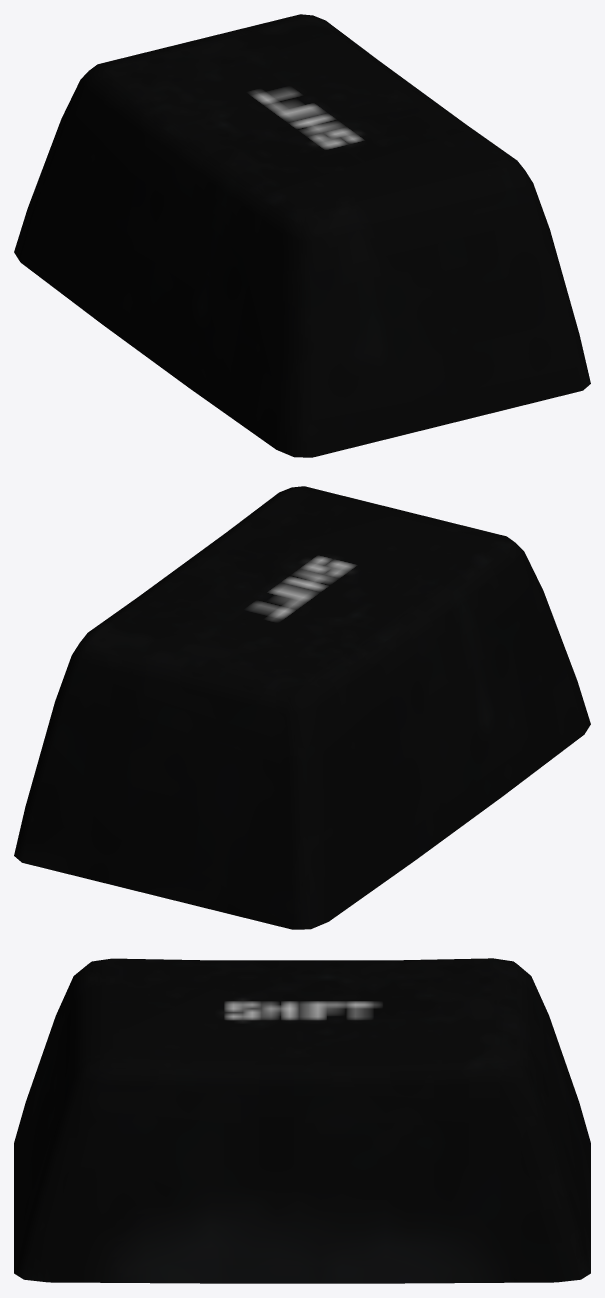
Rendered from shiftLeft.glb.
3 views of the same model, one above another, from view 1: azimuth 30°, elevation 25°; view 2: azimuth 150°, elevation 25°; view 3: azimuth 270°, elevation 25° (orthographic).
Parts seen in each view (by area): view 1: Shift_L; view 2: Shift_L; view 3: Shift_L.
Boxes of the visible parts, box(x1,y1,x2,y2) form: Shift_L: box(14, 14, 590, 457); Shift_L: box(14, 486, 590, 929); Shift_L: box(14, 958, 590, 1283).
Bounding box in the file's own units: 0.0231 × 0.0145 × 0.0372.
1 material, 1 textured.
